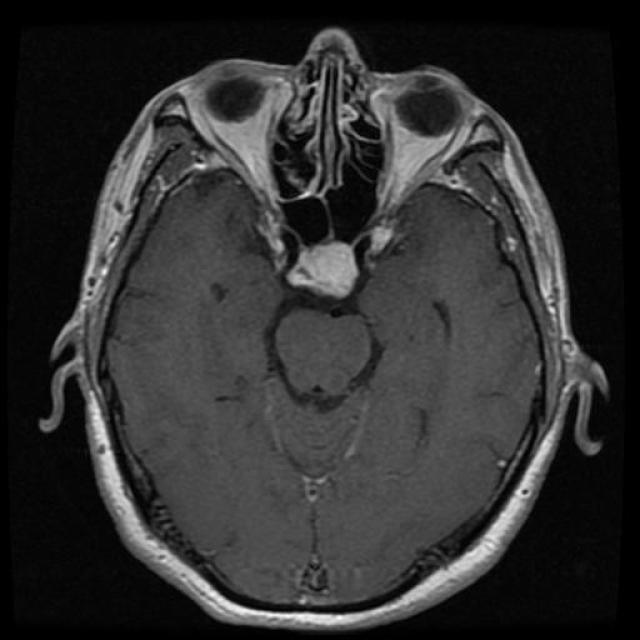Tumor: (290, 246, 368, 295)
